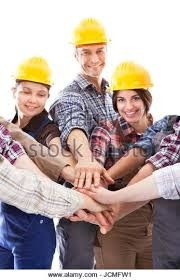helmet: (105, 60, 158, 95), (67, 17, 116, 50), (9, 55, 56, 88)
person with partial safety: (4, 55, 62, 170), (61, 17, 114, 104), (109, 61, 161, 139)
